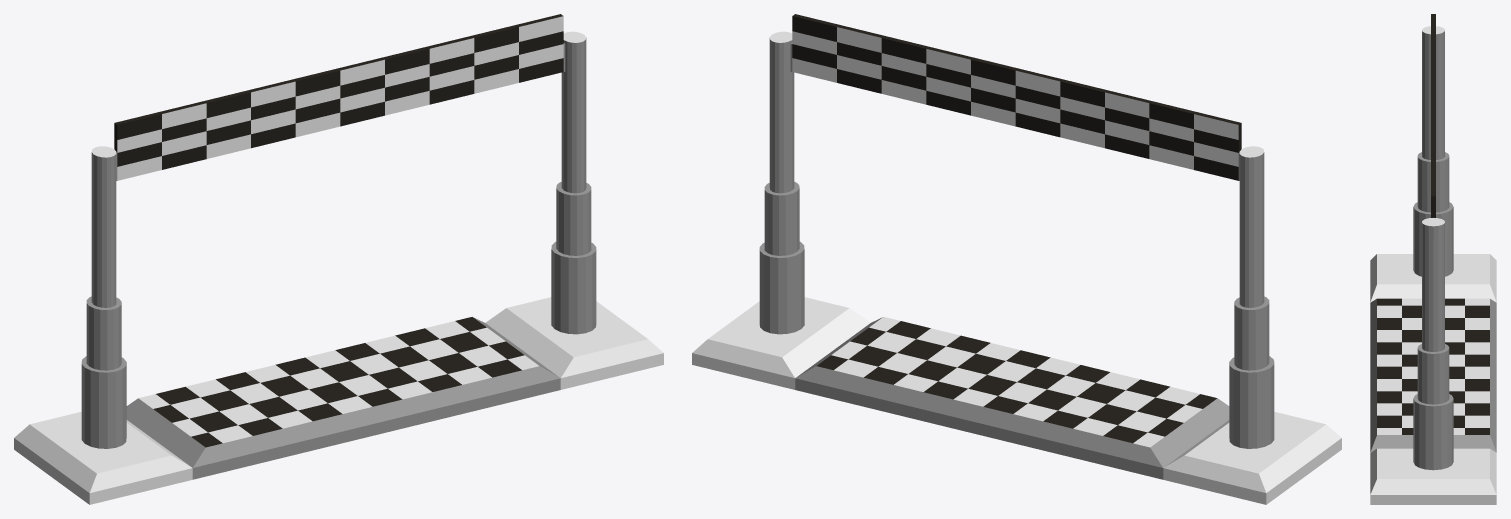
The model's file is Prop_Goal.obj.
3 renders of one model, left to right at view 1: azimuth 30°, elevation 25°; view 2: azimuth 150°, elevation 25°; view 3: azimuth 270°, elevation 25°, orthographic. The views are drawn at different scales.
Visible parts, largest first — view 1: Goalpost; view 2: Goalpost; view 3: Goalpost.
Part boxes in pixels (box(x1,y1,x2,y2)): Goalpost: box(14, 14, 663, 504); Goalpost: box(692, 14, 1341, 504); Goalpost: box(1370, 14, 1496, 504).
Bounding box in the file's own units: 7.92 × 4.45 × 1.8.
Materials: 1 (1 with a texture image).
